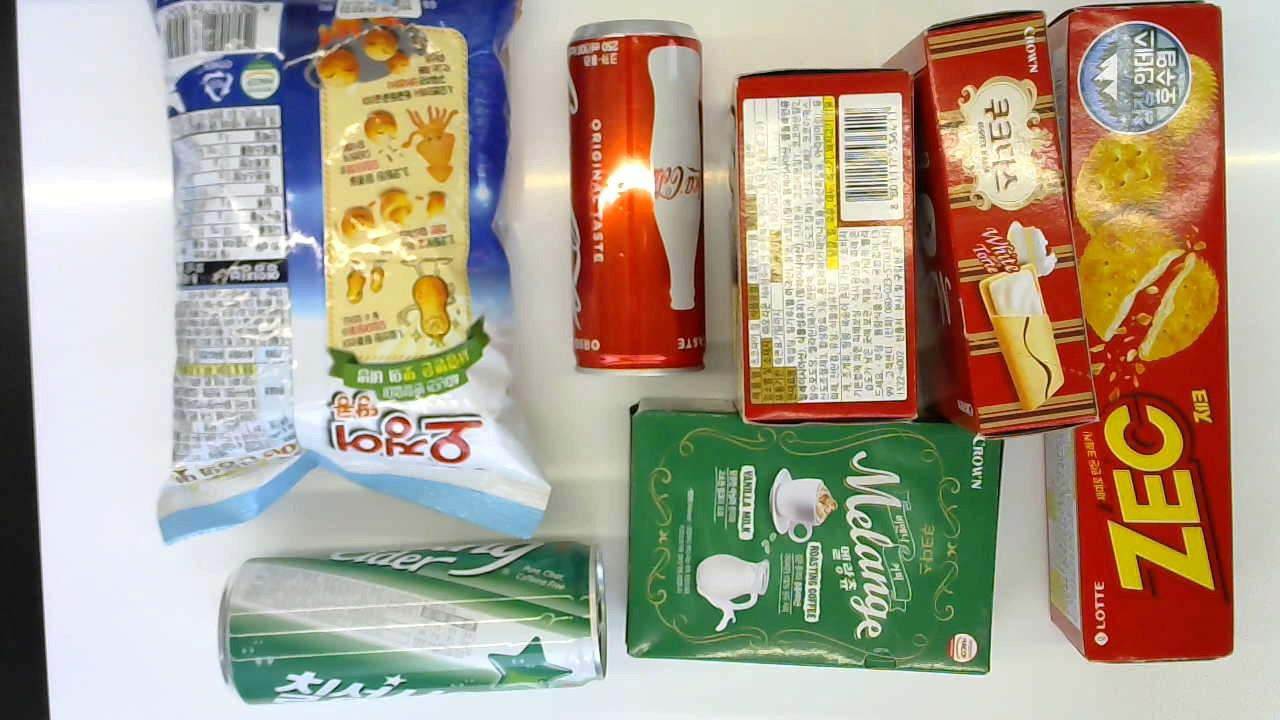chocopie: (724, 69, 919, 420)
cidar: (215, 540, 610, 705)
coke: (570, 20, 708, 377)
couque_coffee: (623, 397, 1007, 672)
couque_white: (871, 10, 1098, 434)
squid_peanut: (152, 0, 550, 542)
zec: (1042, 0, 1233, 663)
